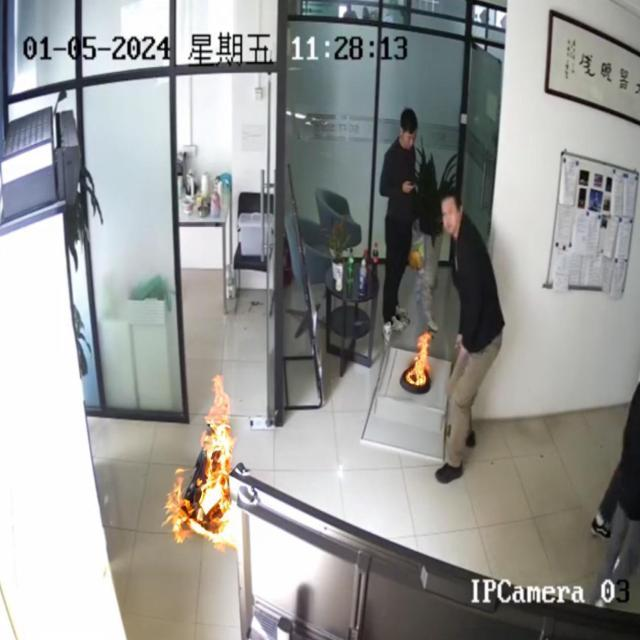smoke: (164, 372, 250, 546), (401, 325, 436, 397)
